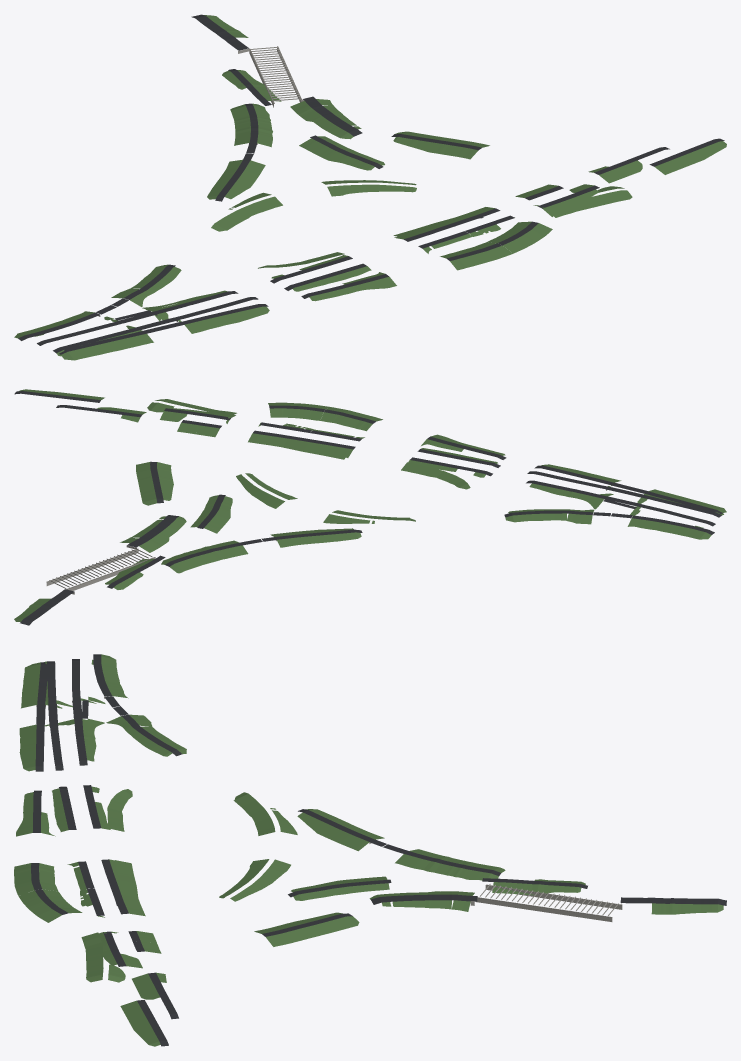
File: br_h27_calgary_trail_2_lod1.gltf
3 views of the same model, one above another, from view 1: azimuth 30°, elevation 25°; view 2: azimuth 150°, elevation 25°; view 3: azimuth 270°, elevation 25° (orthographic). The views are drawn at different scales.
Parts seen in each view (by area): view 1: br_h27_calgary_trail_2_lod1; view 2: br_h27_calgary_trail_2_lod1; view 3: br_h27_calgary_trail_2_lod1.
Boxes of the visible parts, <box> form: br_h27_calgary_trail_2_lod1: <box>14,14,726,360</box>; br_h27_calgary_trail_2_lod1: <box>14,389,726,625</box>; br_h27_calgary_trail_2_lod1: <box>14,654,726,1046</box>.
Size of the model in its own units: 1307 by 17.95 by 1009.
